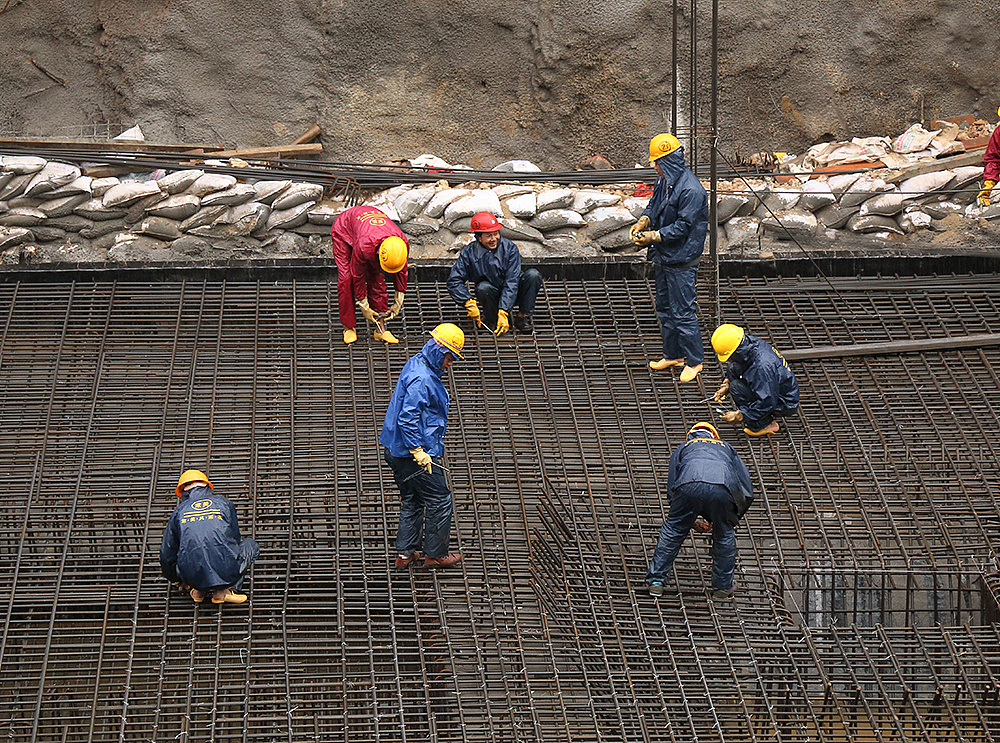safetyhat: (379, 322, 501, 570), (636, 412, 745, 639), (615, 123, 725, 344), (155, 449, 255, 621), (444, 208, 552, 340), (311, 194, 416, 318), (699, 312, 797, 415)
